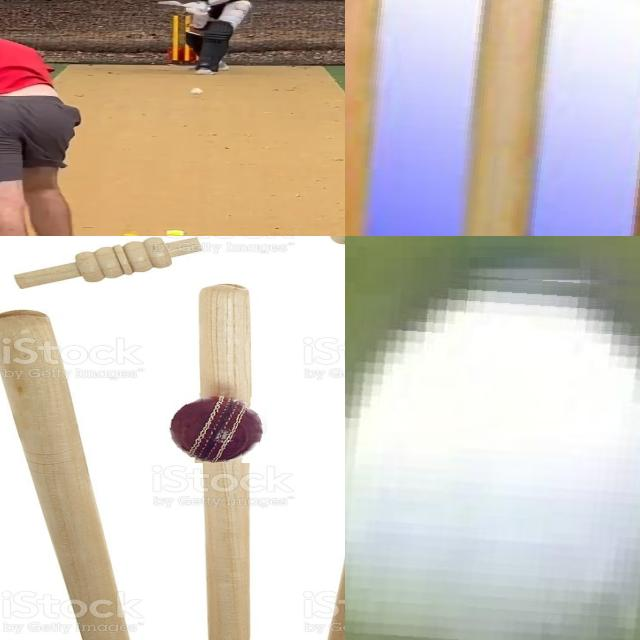Cricket ball: (345, 265, 640, 640), (166, 386, 275, 463), (191, 86, 206, 95)
Stumps: (345, 0, 640, 236)
